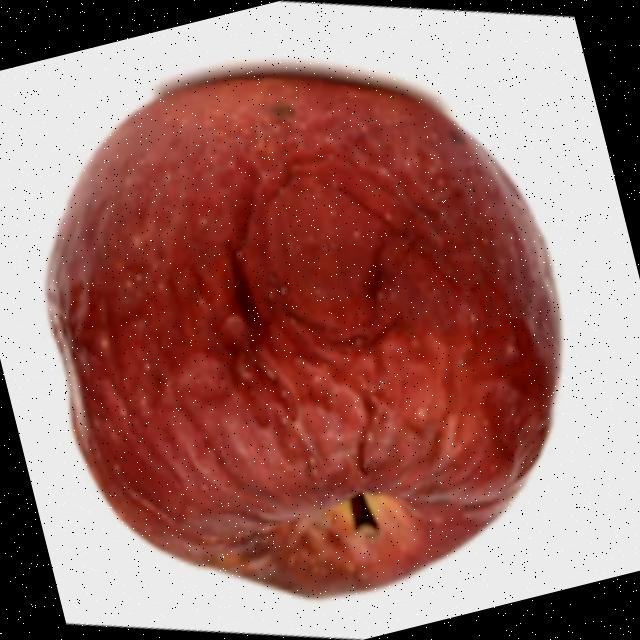overripe: (0, 7, 622, 640)
